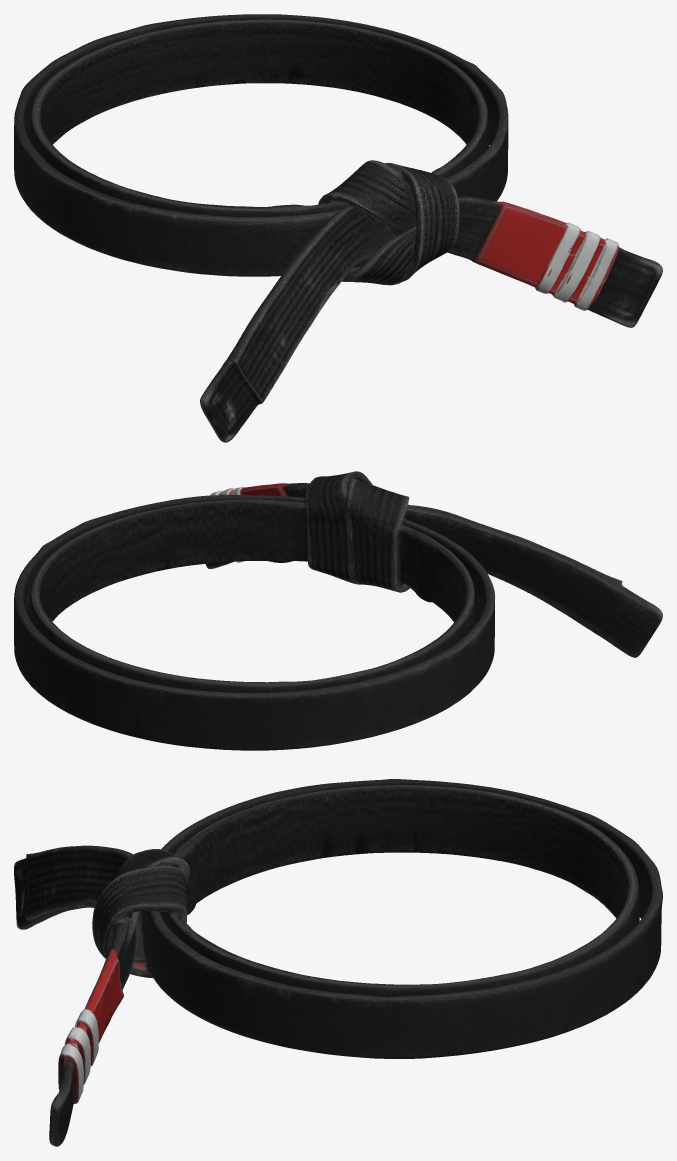
File: cinto.glb
3 renders of one model, top to bottom at view 1: azimuth 30°, elevation 25°; view 2: azimuth 150°, elevation 25°; view 3: azimuth 270°, elevation 25°, orthographic. The views are drawn at different scales.
Parts seen in each view (by area): view 1: Mesh_0; view 2: Mesh_0; view 3: Mesh_0.
Boxes of the visible parts, box(x1,y1,x2,y2) form: Mesh_0: box(14, 14, 662, 442); Mesh_0: box(14, 471, 662, 750); Mesh_0: box(14, 779, 662, 1146).
Bounding box in the file's own units: 1.71 × 0.5995 × 1.9.
1 material, 1 textured.
